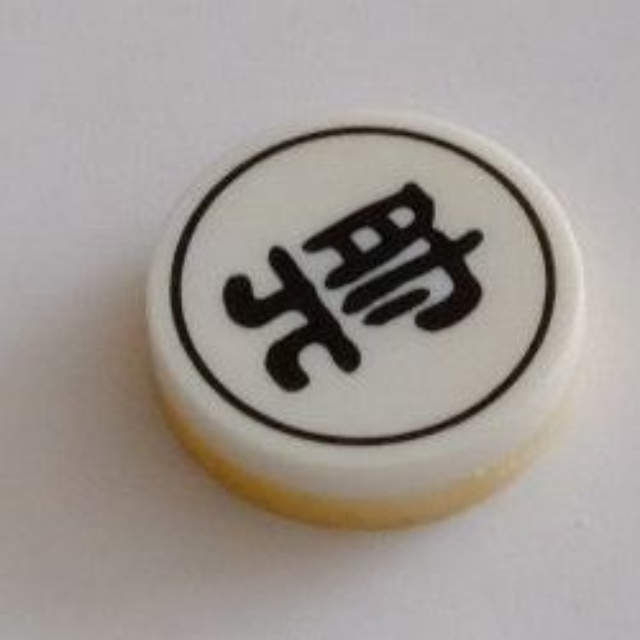black_tuong: (142, 106, 591, 537)
